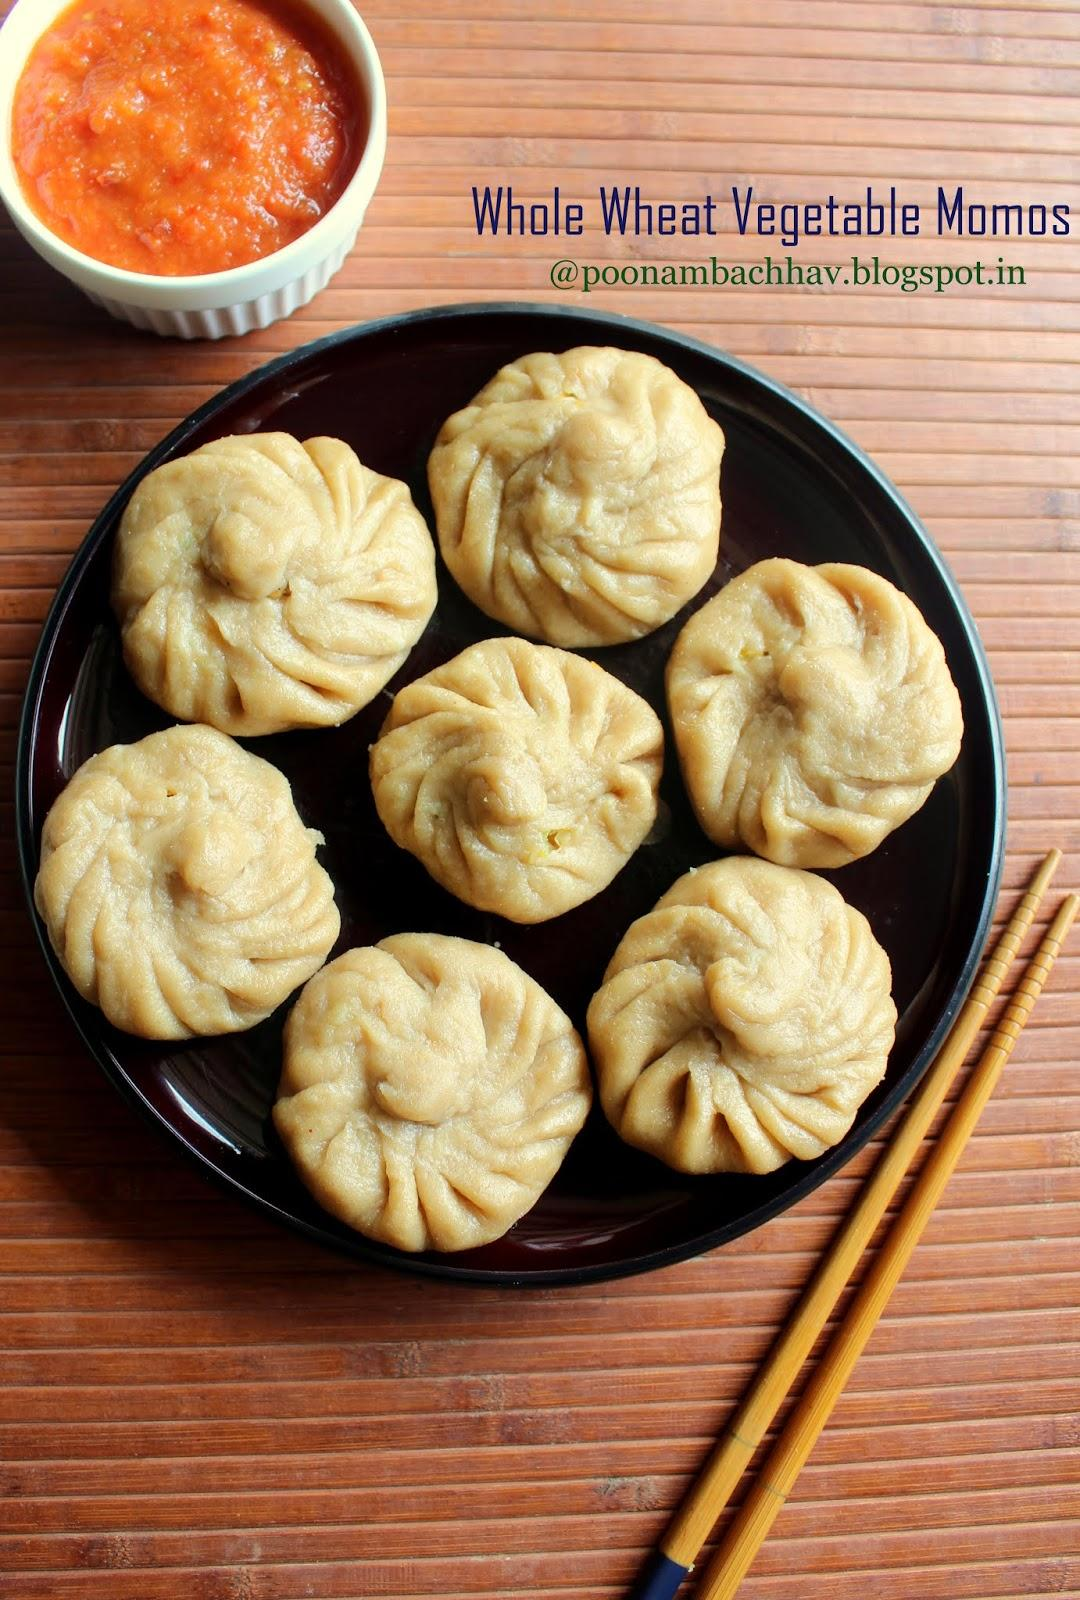momos: (272, 935, 591, 1253), (112, 431, 438, 735), (587, 857, 897, 1175), (35, 725, 341, 1041), (665, 559, 963, 869), (428, 347, 724, 647), (369, 637, 663, 923)
